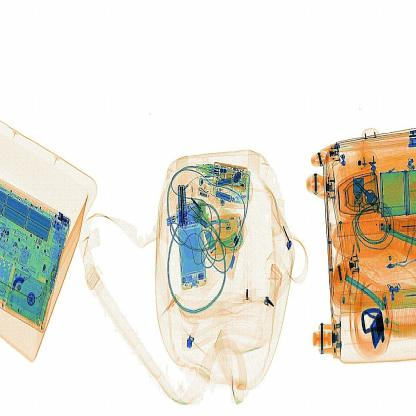scissors: (176, 181, 190, 228)
